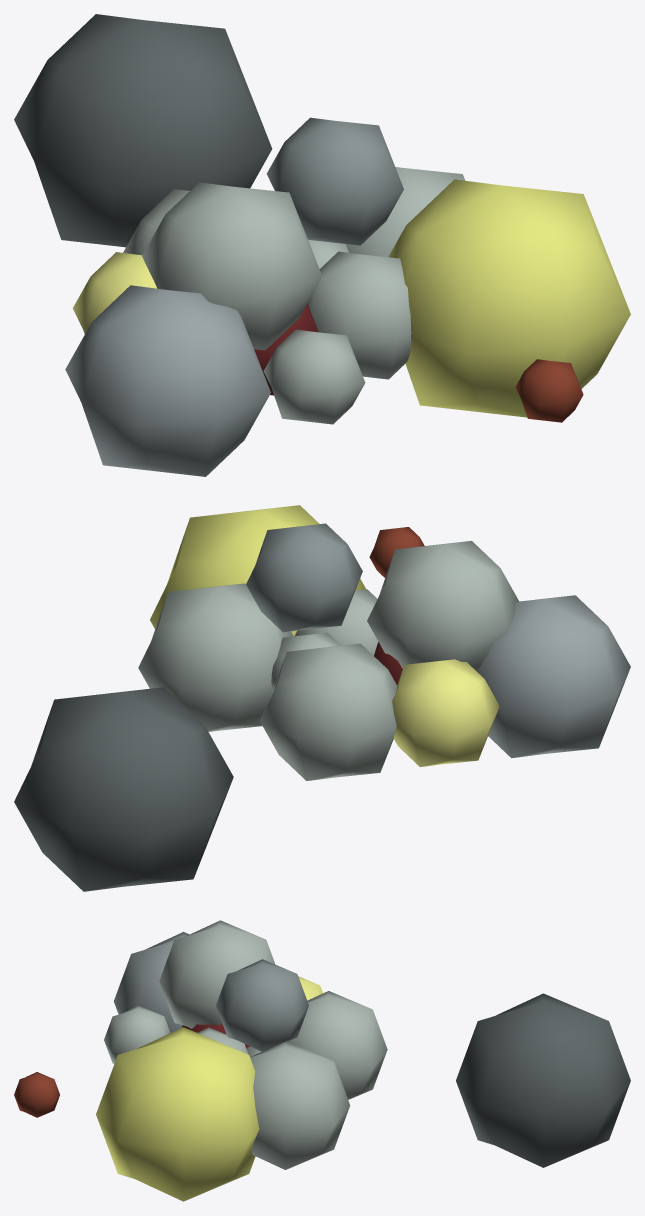
Rendered from SM_rubble.fbx.
3 renders of one model, top to bottom at view 1: azimuth 30°, elevation 25°; view 2: azimuth 150°, elevation 25°; view 3: azimuth 270°, elevation 25°, orthographic. The views are drawn at different scales.
Parts seen in each view (by area): view 1: rubble; view 2: rubble; view 3: rubble.
Part boxes in pixels (left/top/right/bottom): rubble: left=14, top=14, right=630, bottom=476; rubble: left=14, top=505, right=630, bottom=891; rubble: left=14, top=920, right=630, bottom=1201.
Bounding box in the file's own units: 140 × 70.25 × 203.
